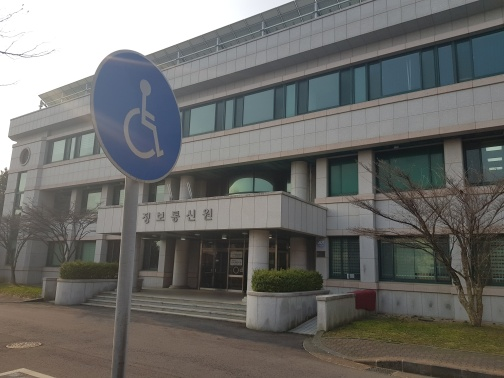Information Telecommunication Center: (140, 204, 344, 303)
